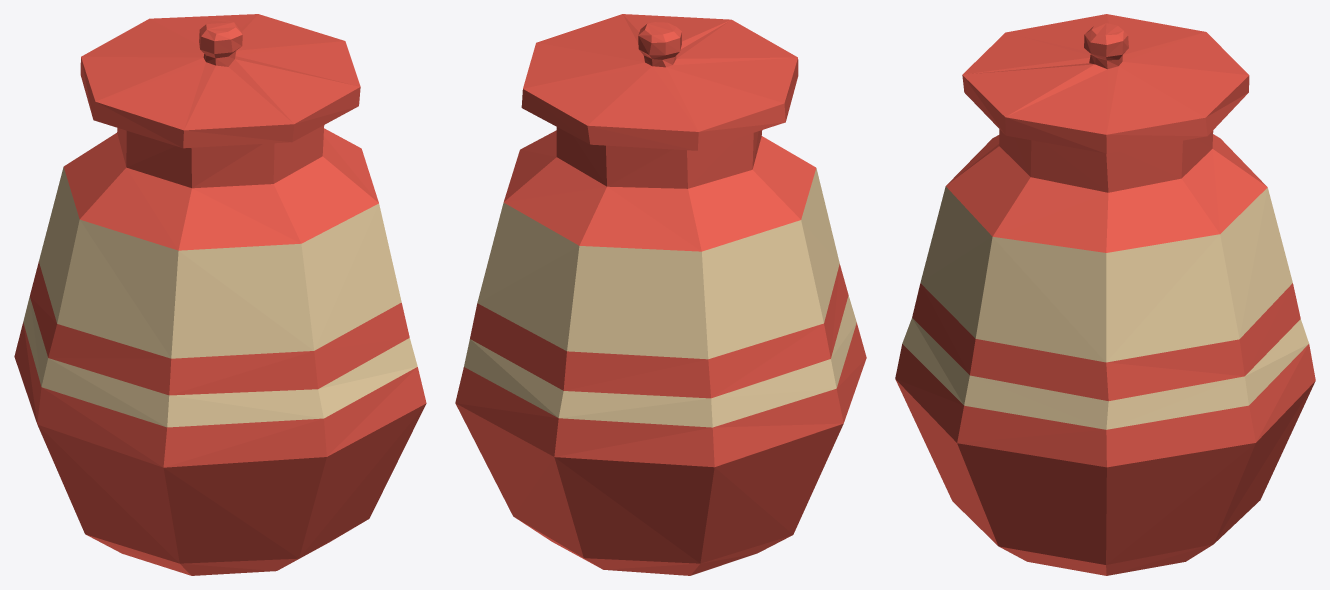
Rendered from SFM_FVC_Memelade_Jar_Red_004.fbx.
The picture shows the model from 3 angles, left to right: view 1: azimuth 30°, elevation 25°; view 2: azimuth 150°, elevation 25°; view 3: azimuth 270°, elevation 25°; orthographic projection.
Parts seen in each view (by area): view 1: SFM_FVC_Memelade_Jar_Red_004; view 2: SFM_FVC_Memelade_Jar_Red_004; view 3: SFM_FVC_Memelade_Jar_Red_004.
Boxes of the visible parts, x1,y1,x2,y2 form: SFM_FVC_Memelade_Jar_Red_004: (14,14,426,575); SFM_FVC_Memelade_Jar_Red_004: (455,14,866,575); SFM_FVC_Memelade_Jar_Red_004: (895,14,1315,575).
Bounding box in the file's own units: 23.73 × 31.09 × 23.72.
